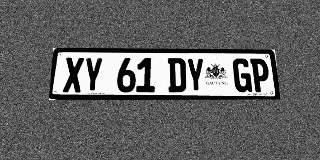1: (136, 58, 155, 92)
6: (117, 58, 136, 92)
D: (168, 58, 186, 92)
G: (232, 58, 252, 92)
P: (250, 58, 270, 92)
X: (63, 57, 84, 92)
Y: (83, 57, 103, 92), (186, 58, 205, 92)
